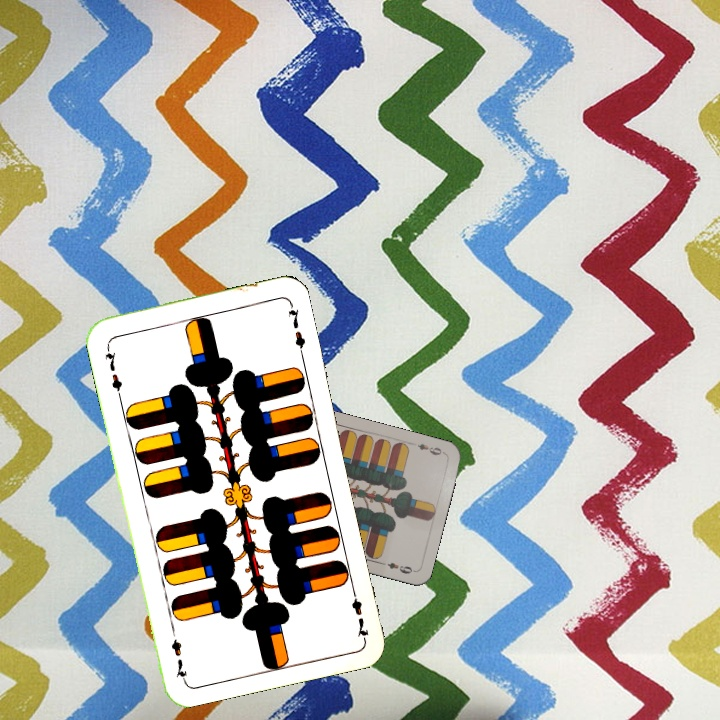E7: (100, 340, 125, 399), (347, 583, 372, 641)
E9: (407, 438, 447, 458)
